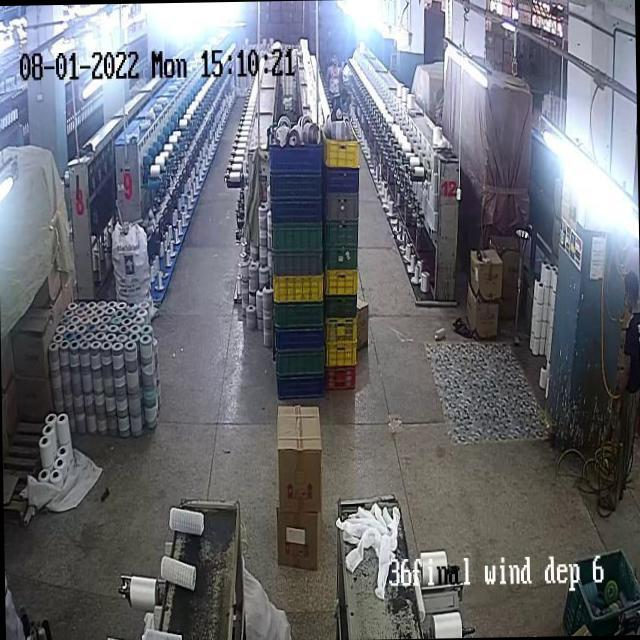person: (326, 54, 341, 98), (345, 90, 356, 126)
